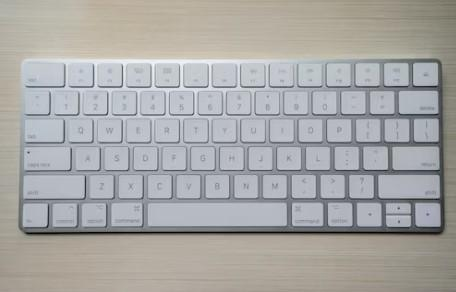Keyboard: (18, 57, 444, 236)
